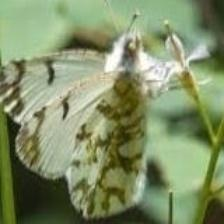butterfly: (0, 31, 180, 220)
